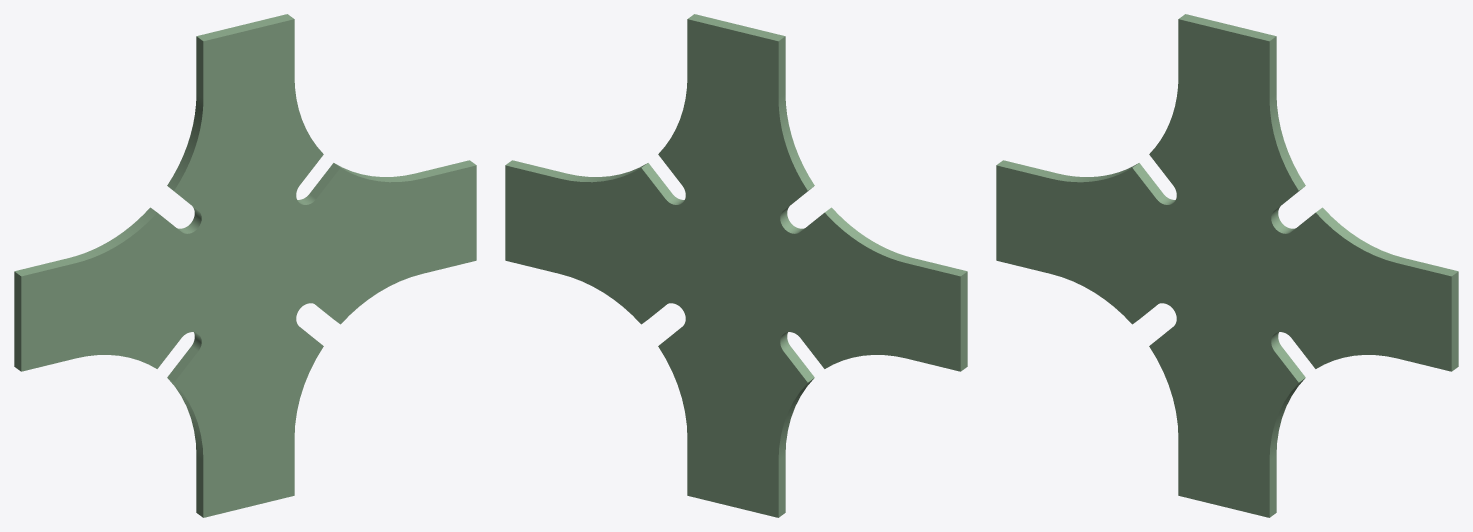
File: 2D_biaxial.obj
3 renders of one model, left to right at view 1: azimuth 30°, elevation 25°; view 2: azimuth 150°, elevation 25°; view 3: azimuth 330°, elevation 25°, orthographic.
Visible parts, largest first — view 1: 2D_biaxial\left-middle; view 2: 2D_biaxial\left-middle; view 3: 2D_biaxial\left-middle.
Part boxes in pixels (x1,y1,x2,y2): 2D_biaxial\left-middle: [14, 14, 476, 517]; 2D_biaxial\left-middle: [505, 14, 967, 517]; 2D_biaxial\left-middle: [996, 14, 1458, 517].
Bounding box in the file's own units: 150 × 150 × 4.
